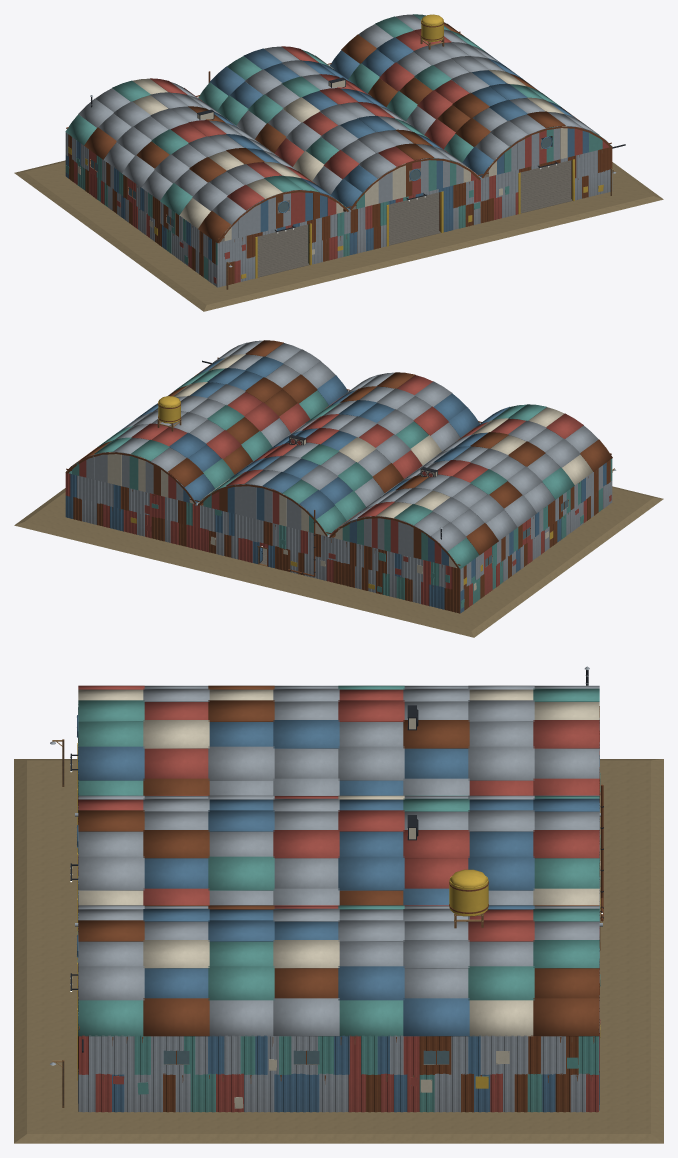
Rendered from scrap_city_garage.glb.
3 renders of one model, top to bottom at view 1: azimuth 30°, elevation 25°; view 2: azimuth 150°, elevation 25°; view 3: azimuth 270°, elevation 25°, orthographic. The views are drawn at different scales.
Visible parts, largest first — view 1: scrap_city_garage.001; view 2: scrap_city_garage.001; view 3: scrap_city_garage.001.
Part boxes in pixels (bbox=[...]): scrap_city_garage.001: bbox=[14, 14, 663, 311]; scrap_city_garage.001: bbox=[14, 340, 663, 637]; scrap_city_garage.001: bbox=[14, 666, 663, 1143].
Size of what is drawn, in the model's own units: 70 by 15.98 by 50.
99 materials, 97 textured.
